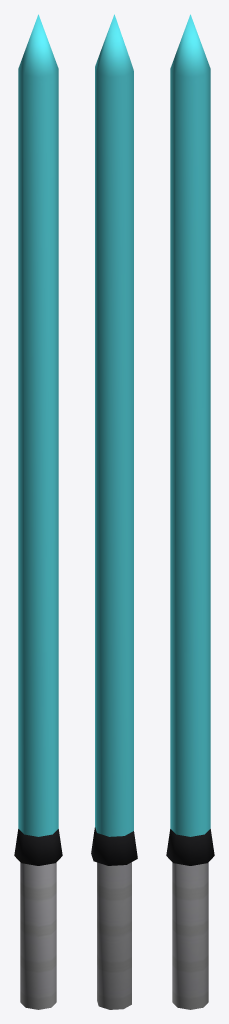
Rendered from epee-energie.glb.
3 renders of one model, left to right at view 1: azimuth 90°, elevation 25°; view 2: azimuth 210°, elevation 25°; view 3: azimuth 270°, elevation 25°, orthographic.
Visible parts, largest first — view 1: epee-energie; view 2: epee-energie; view 3: epee-energie.
Part boxes in pixels (x1,y1,x2,y2): epee-energie: (14, 14, 62, 1009); epee-energie: (91, 14, 137, 1009); epee-energie: (166, 14, 214, 1009).
Size of the model in its own units: 0.048 by 1.08 by 0.048.
Materials: 1 (1 with a texture image).
